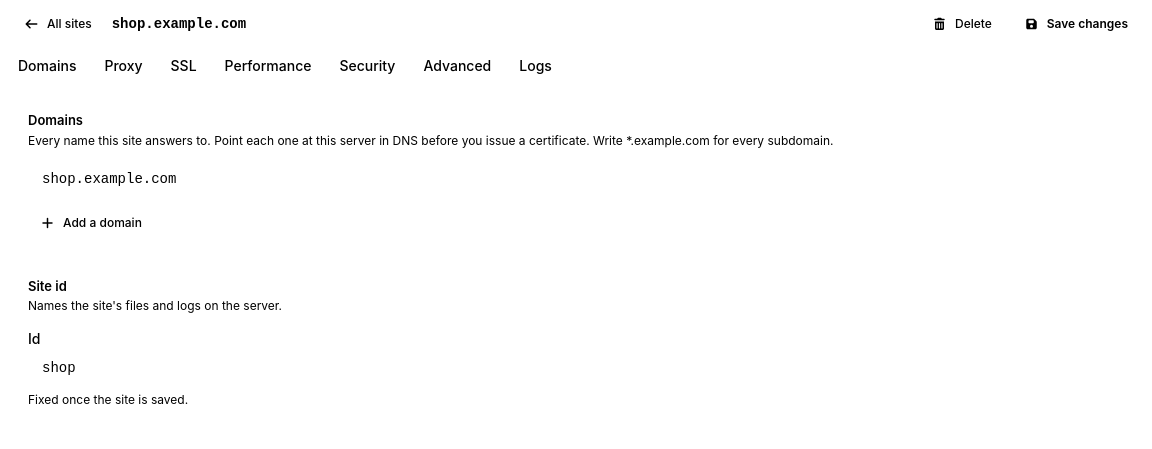
SiteEditor domains and proxy › says when saving failed outright
The width and height of the screenshot is (1152, 449).
Click the button "Save changes" at [1076, 24], box [1012,10,1140,38]
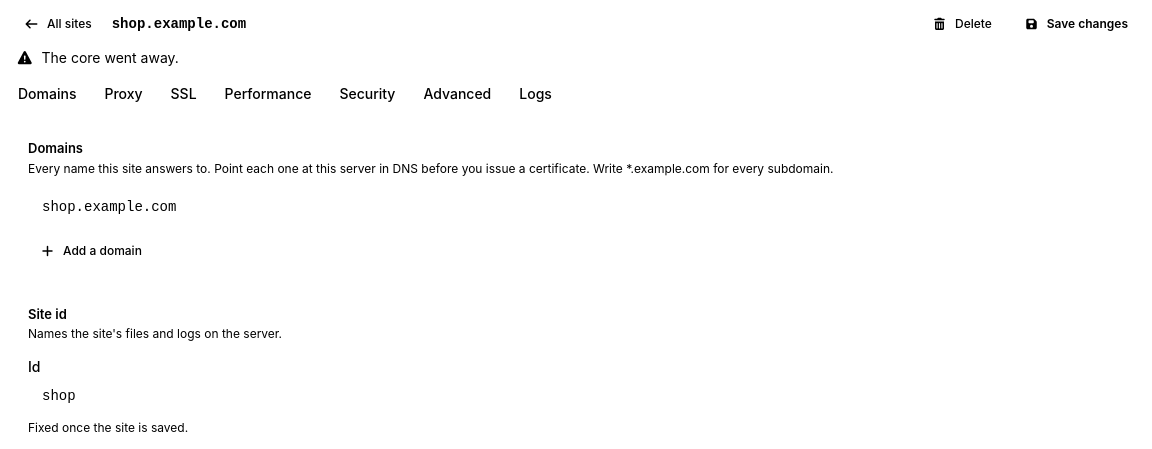
Now the text "The core went away." is shown, box [16,49,179,66]
